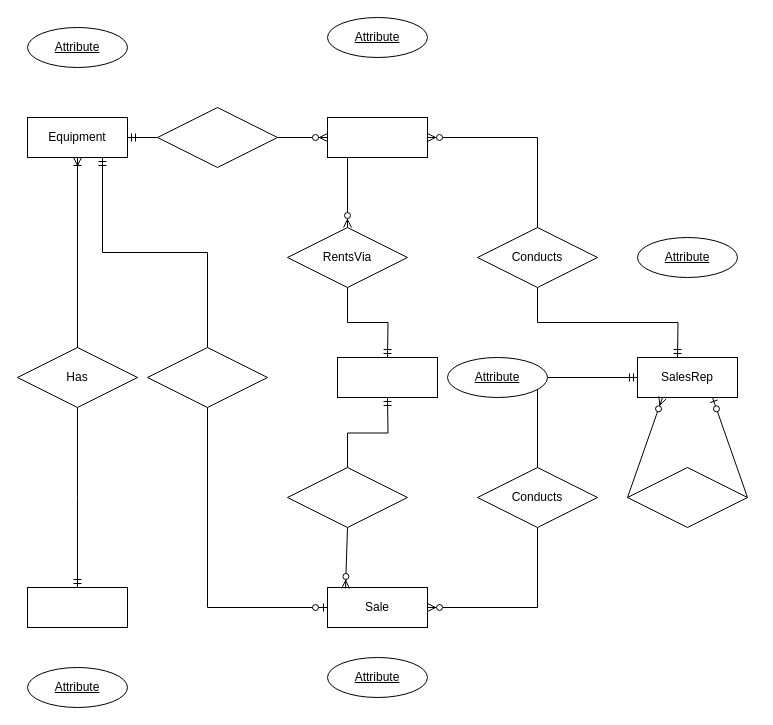
The diagram is 773 pixels wide and 725 high, and some of its shapes have lost their labels. Each missing label, with the centre of its shape:
BuysVia: point 347,497
Customer: point 387,377
EquipmentDetail: point 77,607
Mentors: point 687,497
Rental: point 377,137
RentedVia: point 217,137
SoldVia: point 207,377
